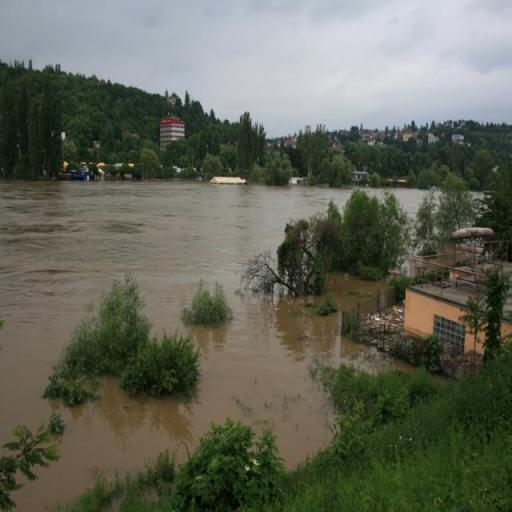flood: (0, 182, 407, 512), (327, 274, 386, 310), (364, 188, 426, 216)
house: (401, 284, 480, 366), (157, 110, 187, 152), (211, 175, 247, 185)
